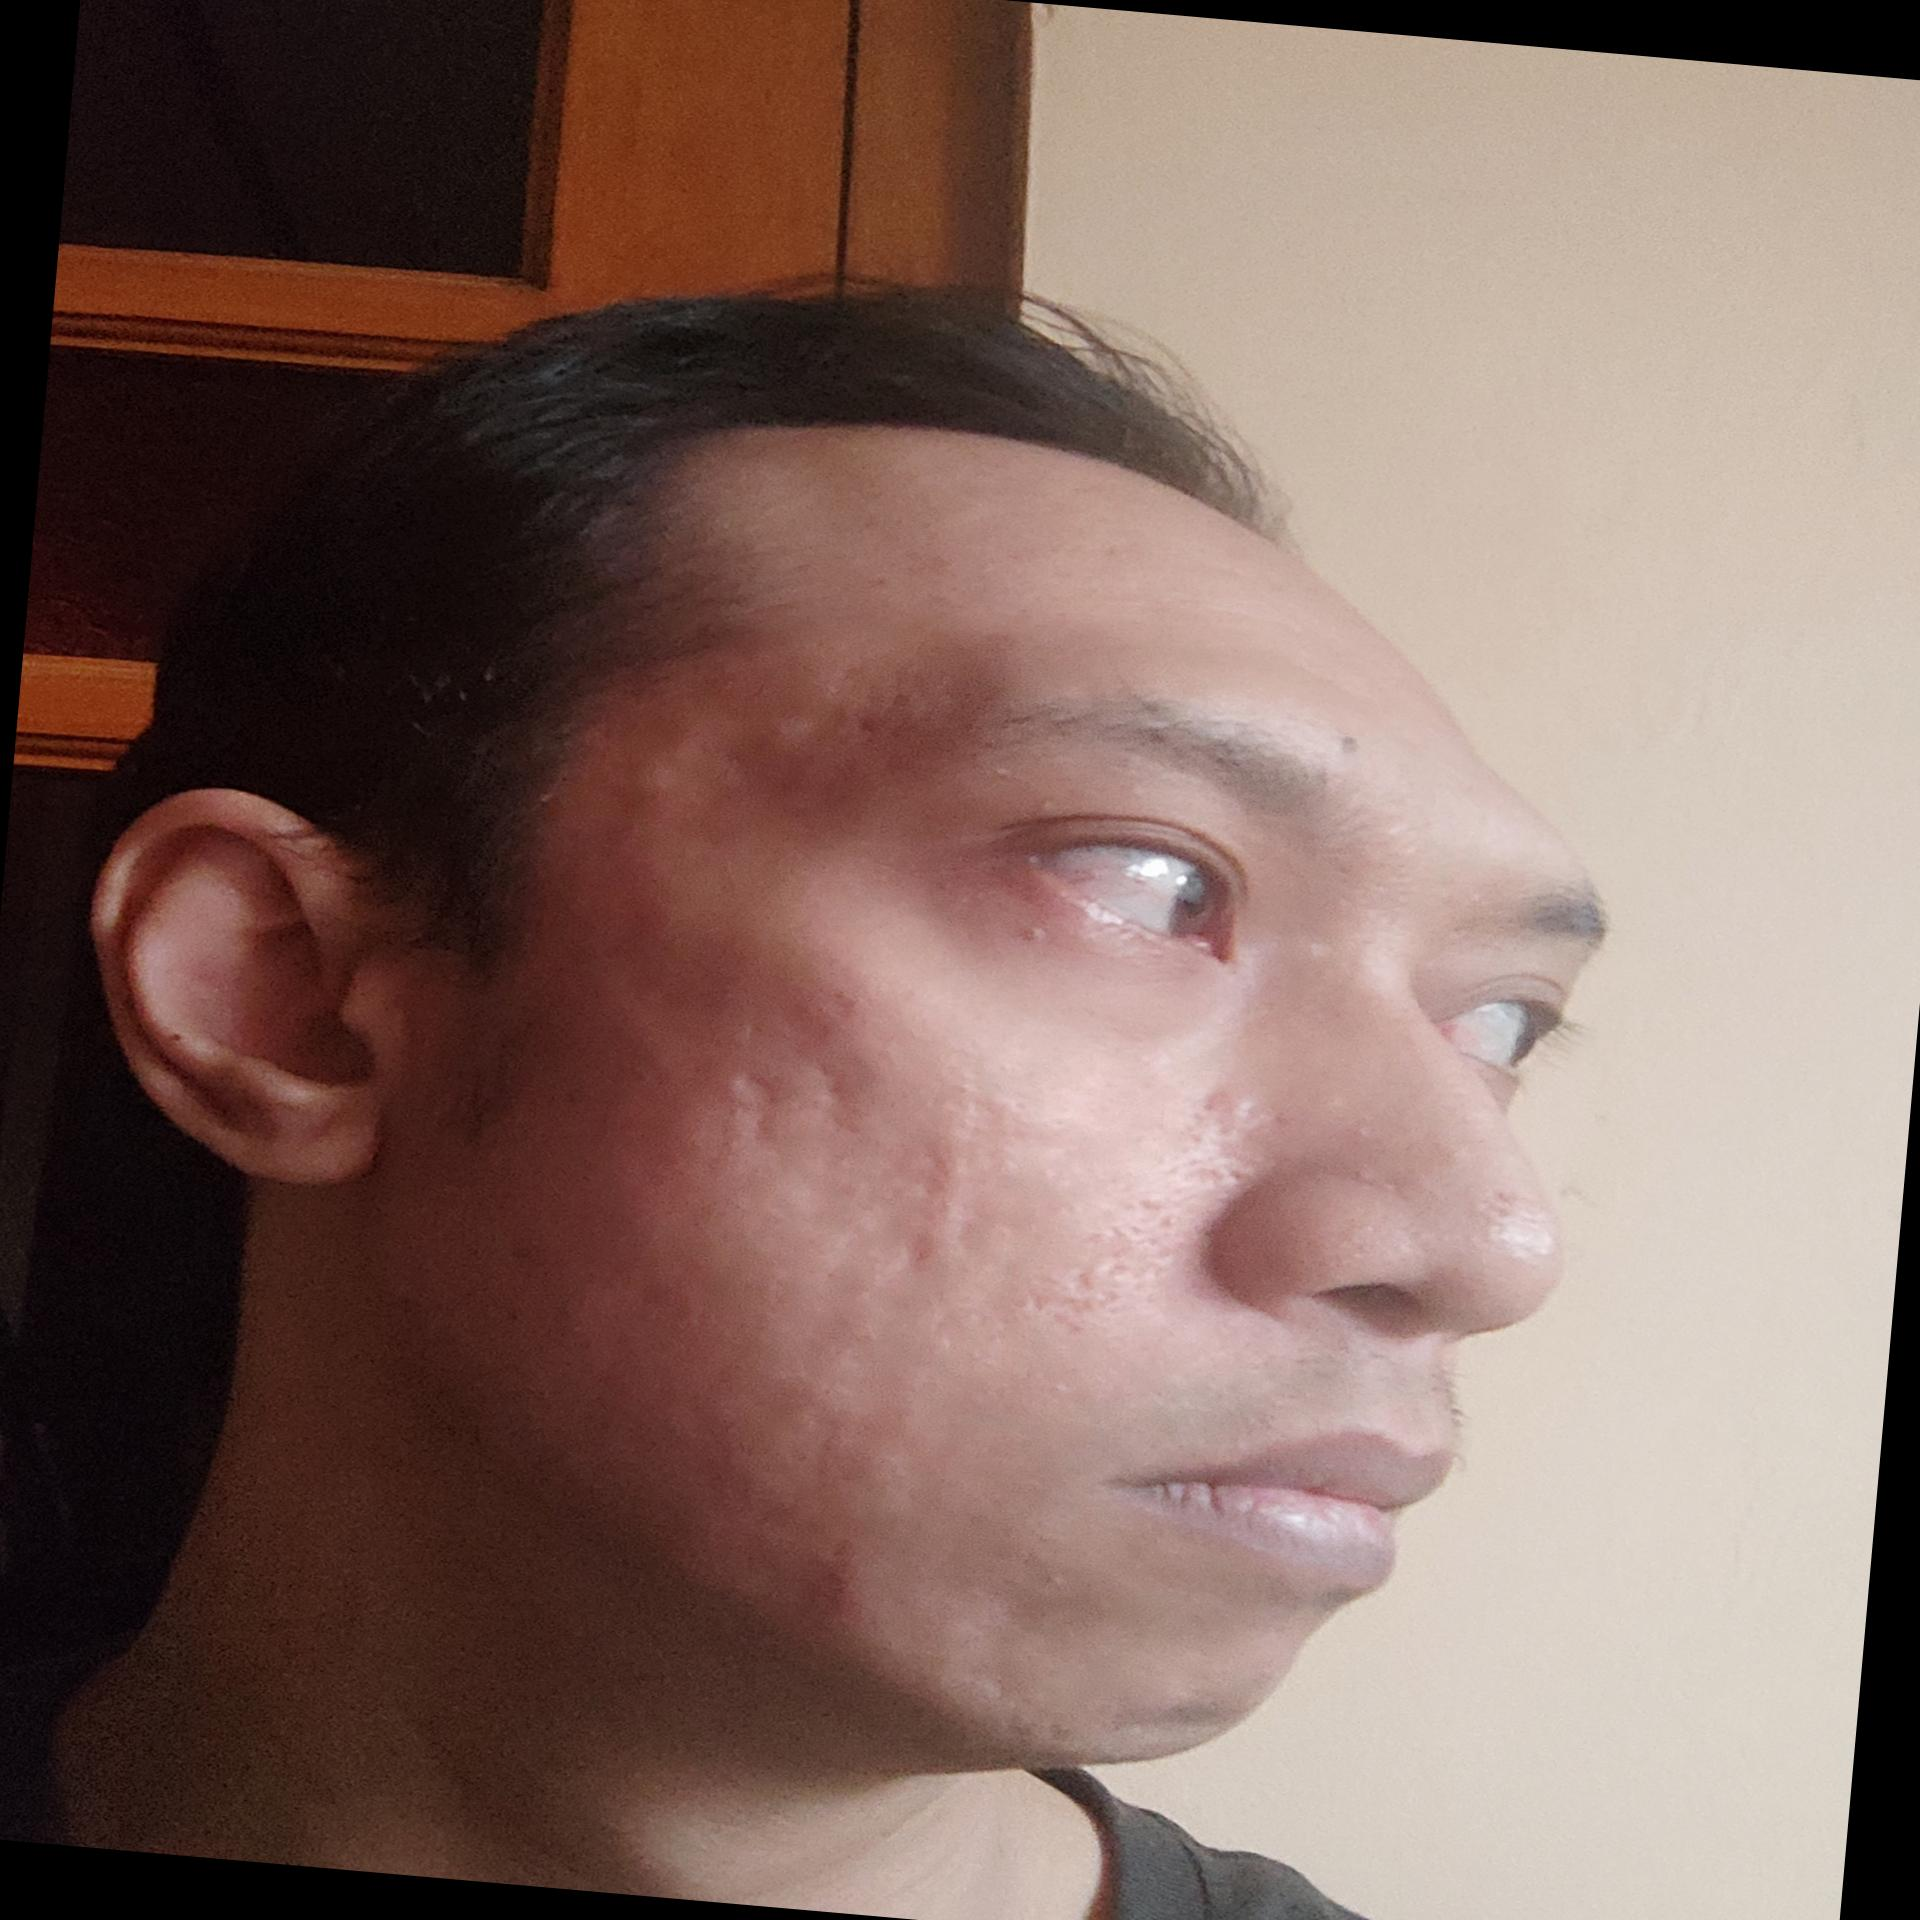Acne: (789, 1528, 872, 1600), (819, 695, 895, 751), (1319, 723, 1384, 761), (855, 561, 918, 596), (772, 559, 828, 589)
Englarged Pores: (1016, 1094, 1261, 1361), (1412, 1173, 1538, 1259)
